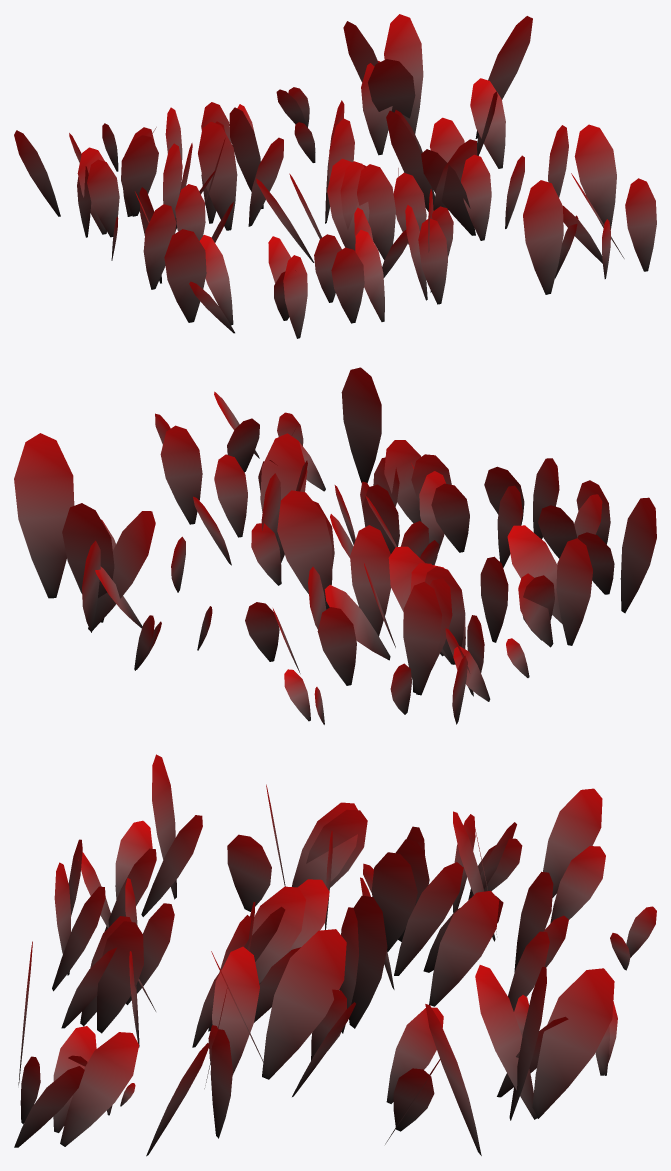
Rendered from f_Grass_Test_1.fbx.
3 renders of one model, top to bottom at view 1: azimuth 30°, elevation 25°; view 2: azimuth 150°, elevation 25°; view 3: azimuth 270°, elevation 25°, orthographic. The views are drawn at different scales.
Visible parts, largest first — view 1: Plane.002; view 2: Plane.002; view 3: Plane.002.
Boxes of the visible parts, x1,y1,x2,y2 form: Plane.002: (14,14,656,338); Plane.002: (14,367,656,724); Plane.002: (14,754,656,1156).
Size of the model in its own units: 1.15 by 0.3006 by 1.03.
